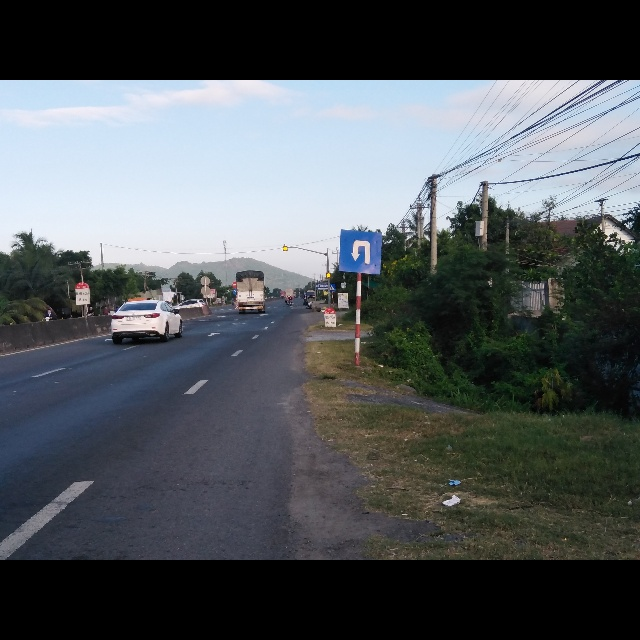Khu vực quay đầu xe: (338, 229, 383, 276)
